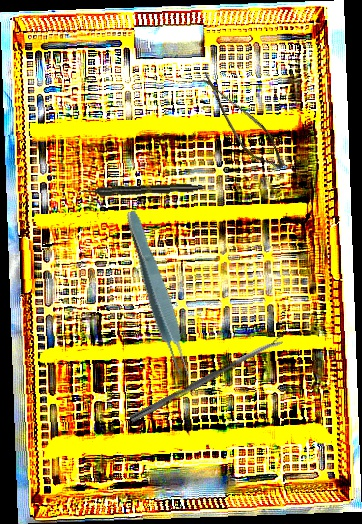Handpiece: (79, 182, 203, 197)
Micro Scissor: (183, 73, 299, 176)
Surgical Spoon: (129, 336, 284, 424)
Tissue Forceps: (119, 208, 196, 382)
